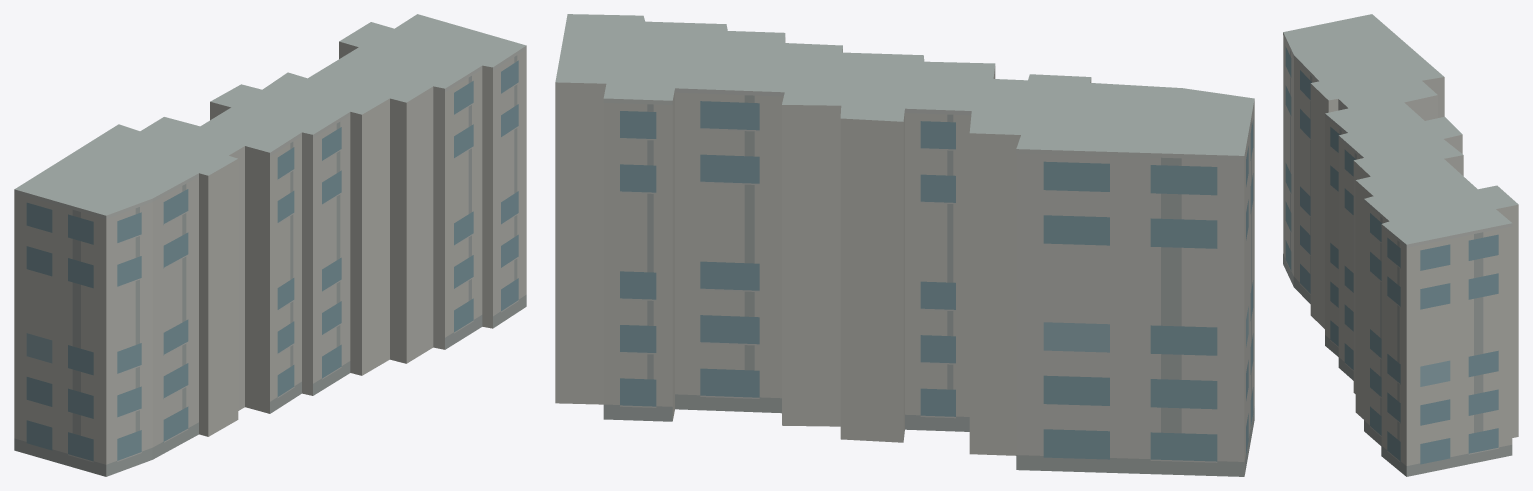
The model's file is survey-upis-32817082.glb.
The picture shows the model from 3 angles, left to right: view 1: azimuth 30°, elevation 25°; view 2: azimuth 150°, elevation 25°; view 3: azimuth 270°, elevation 25°; orthographic projection. The views are drawn at different scales.
Parts seen in each view (by area): view 1: survey-upis-32817082.tmp; view 2: survey-upis-32817082.tmp; view 3: survey-upis-32817082.tmp.
Part boxes in pixels (x1,y1,x2,y2): survey-upis-32817082.tmp: [14, 14, 526, 476]; survey-upis-32817082.tmp: [555, 14, 1254, 476]; survey-upis-32817082.tmp: [1283, 14, 1518, 476].
Bounding box in the file's own units: 38.34 × 18 × 16.56.
